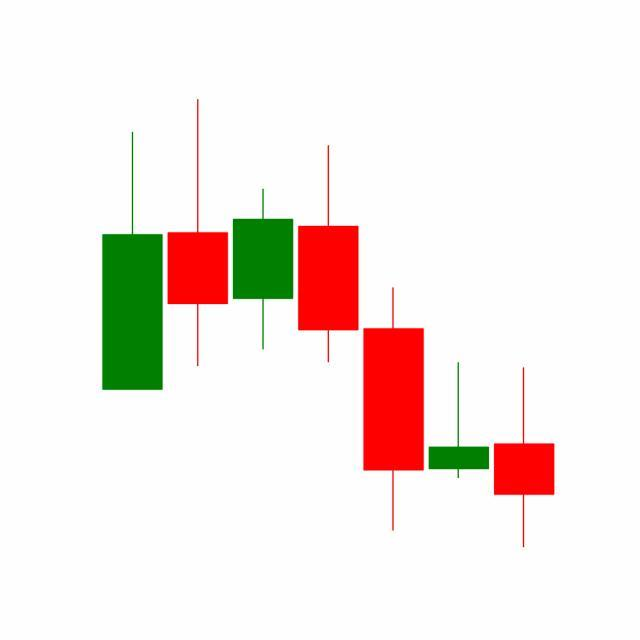Hikkake Pattern: (229, 141, 555, 548)
